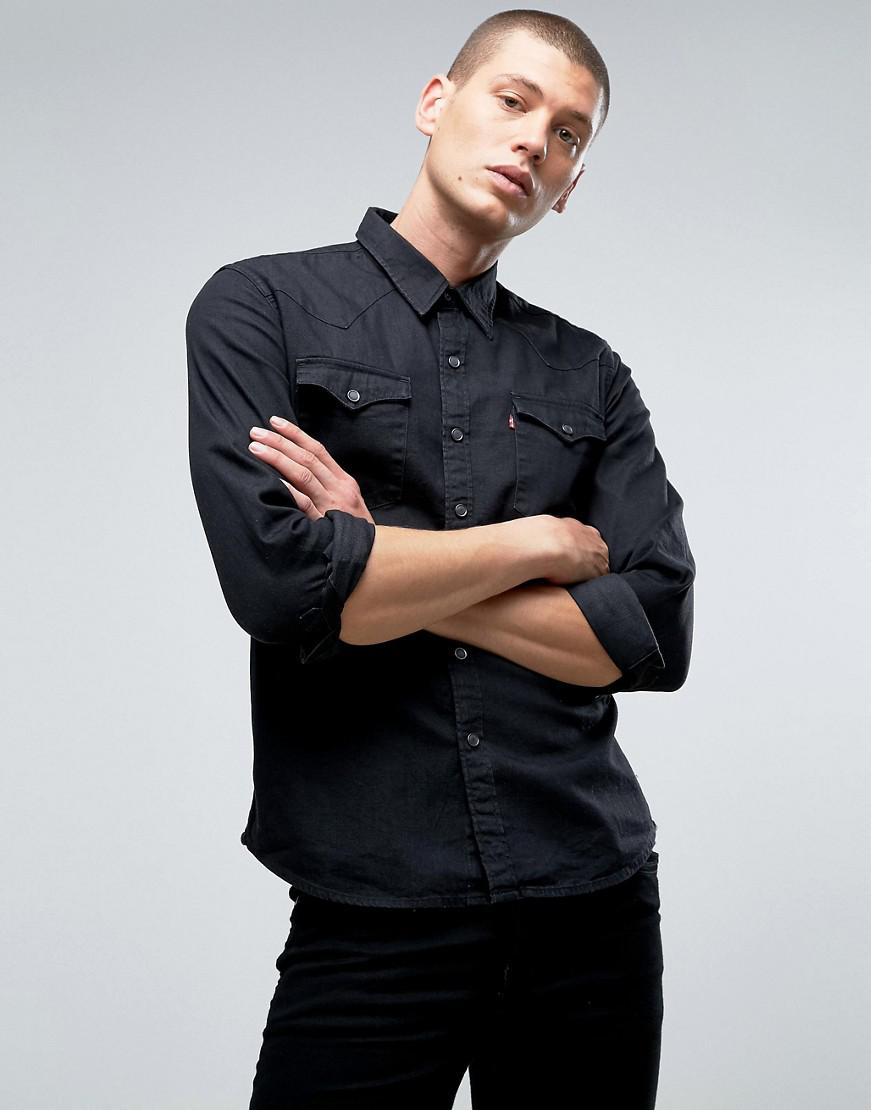teeshirt: (152, 196, 720, 917)
